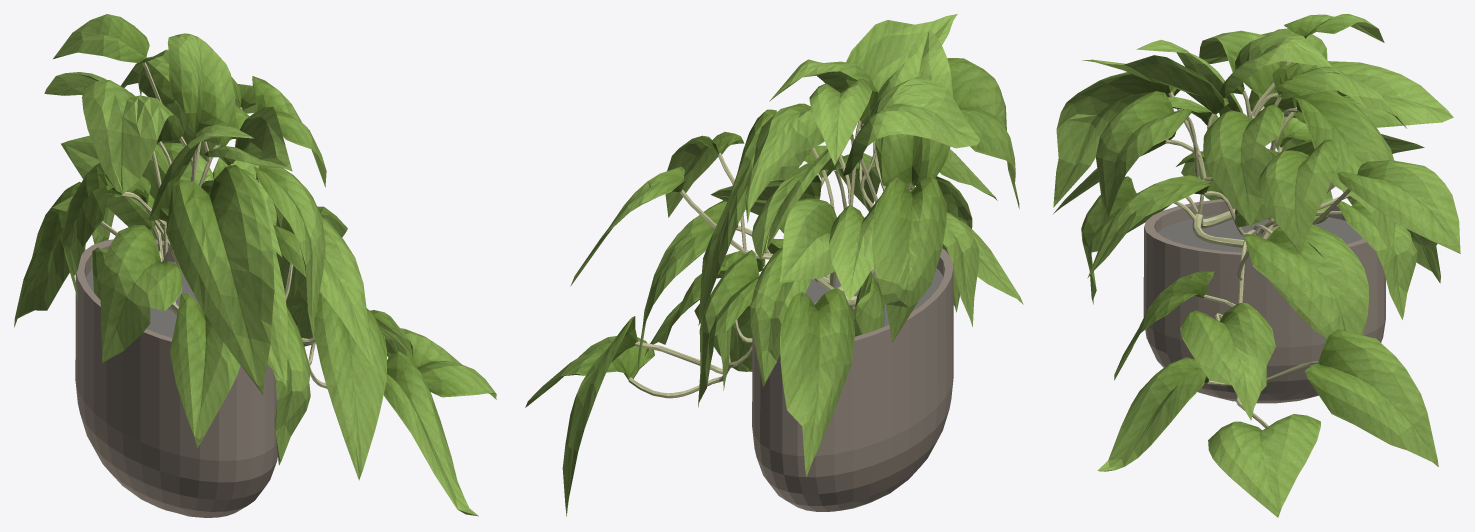
File: sh-bs0-augalas.glb
3 renders of one model, left to right at view 1: azimuth 30°, elevation 25°; view 2: azimuth 150°, elevation 25°; view 3: azimuth 270°, elevation 25°, orthographic. The views are drawn at different scales.
Parts seen in each view (by area): view 1: Augalas1_Untitled, Cylinder, Augalas35_Untitled.026, Grid; view 2: Augalas1_Untitled, Cylinder, Augalas35_Untitled.026, Grid; view 3: Augalas1_Untitled, Cylinder, Augalas35_Untitled.026, Grid.
Part boxes in pixels (bbox=[...]): Augalas1_Untitled: bbox=[14, 14, 496, 516]; Cylinder: bbox=[75, 239, 277, 517]; Augalas35_Untitled.026: bbox=[100, 62, 327, 388]; Grid: bbox=[86, 261, 201, 337]; Augalas1_Untitled: bbox=[525, 14, 1023, 516]; Cylinder: bbox=[752, 248, 953, 511]; Augalas35_Untitled.026: bbox=[628, 120, 912, 398]; Grid: bbox=[805, 268, 943, 326]; Augalas1_Untitled: bbox=[1053, 14, 1460, 517]; Cylinder: bbox=[1143, 198, 1385, 403]; Augalas35_Untitled.026: bbox=[1165, 62, 1350, 428]; Grid: bbox=[1158, 214, 1362, 252].
Size of the model in its own units: 1 by 1 by 1.
4 materials, 1 textured.
